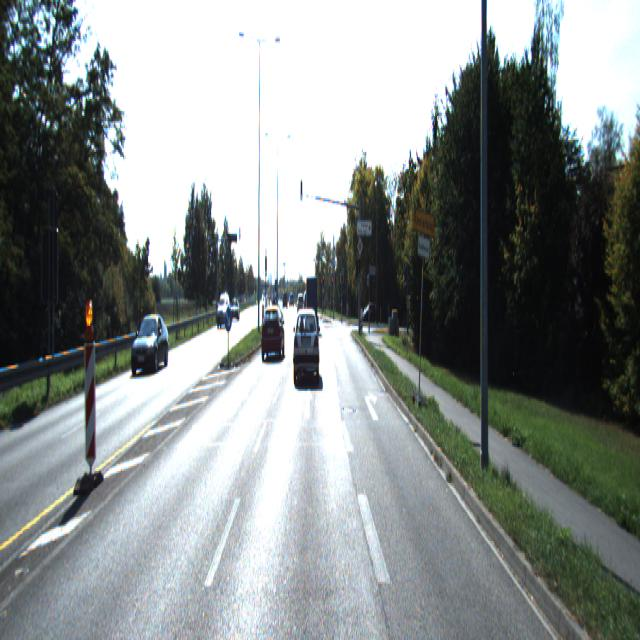Car: (130, 316, 169, 375), (294, 312, 320, 382), (260, 306, 286, 363), (305, 276, 318, 334), (217, 296, 232, 329)
